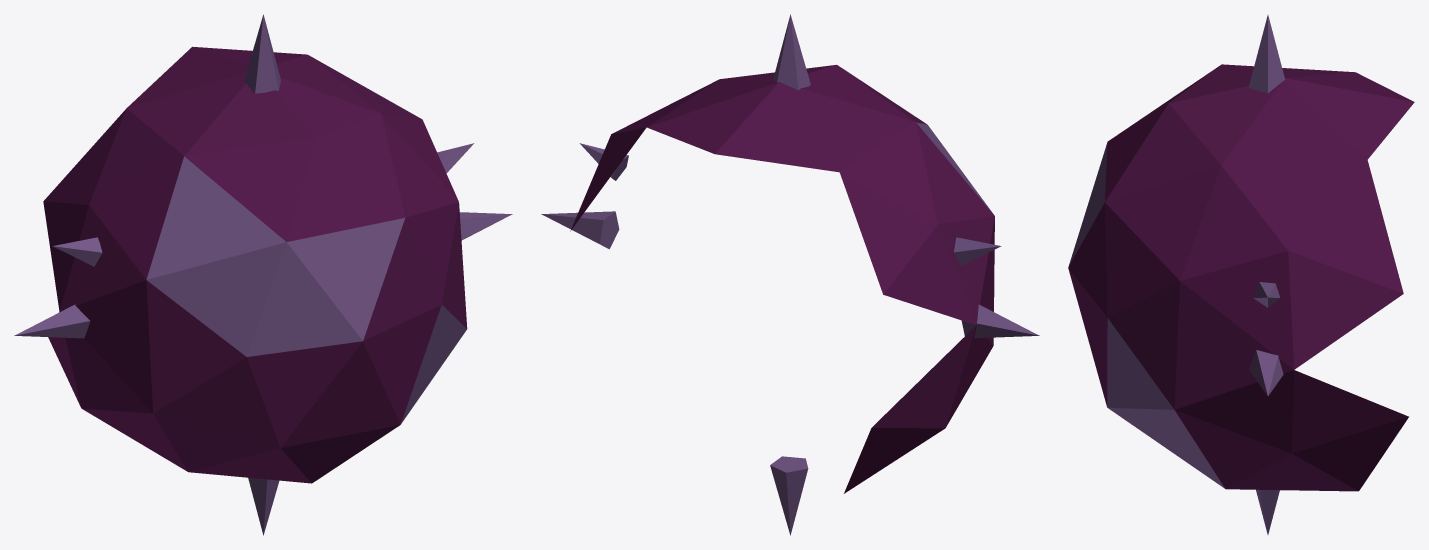
Rendered from planet.glb.
3 views of the same model, side by side, from view 1: azimuth 30°, elevation 25°; view 2: azimuth 150°, elevation 25°; view 3: azimuth 270°, elevation 25° (orthographic).
Parts seen in each view (by area): view 1: Planet, Spire0, Spire1, Spire2, Spire3, Spire5; view 2: Planet, Spire2, Spire3, Spire0, Spire1, Spire5; view 3: Planet, Spire0, Spire3, Spire2, Spire4.
Part boxes in pixels (box(x1,y1,x2,y2)): Planet: box(43, 46, 467, 483); Spire0: box(244, 14, 280, 93); Spire1: box(14, 304, 90, 338); Spire2: box(248, 477, 279, 535); Spire3: box(459, 212, 512, 240); Spire5: box(52, 237, 102, 266); Planet: box(570, 64, 994, 493); Spire2: box(770, 456, 808, 535); Spire3: box(541, 211, 619, 249); Spire0: box(773, 14, 810, 90); Spire1: box(961, 304, 1039, 338); Spire5: box(954, 237, 1001, 265); Planet: box(1068, 64, 1414, 491); Spire0: box(1248, 15, 1285, 93); Spire3: box(1248, 350, 1283, 395); Spire2: box(1256, 489, 1279, 534); Spire4: box(1253, 282, 1280, 307).
Bounding box in the file's own units: 3.64 × 3.64 × 2.19.
